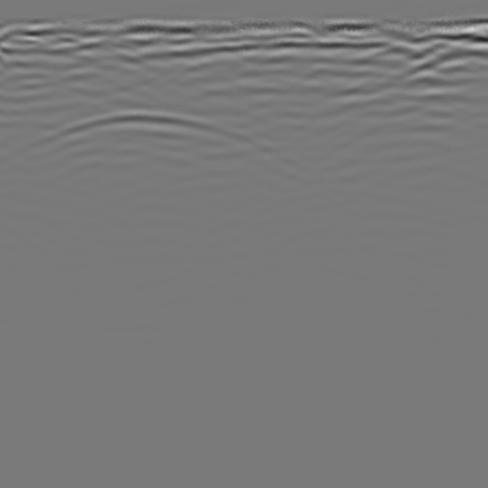hyperbola: (3, 100, 293, 209)
